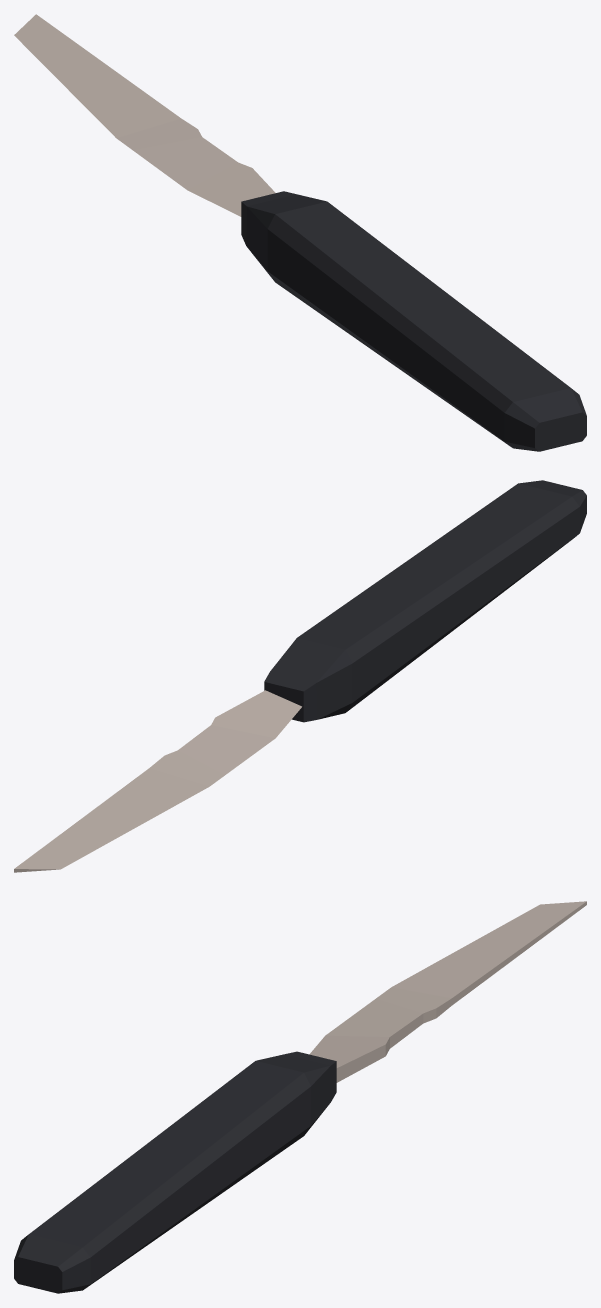
File: SM_Knife.glb
The picture shows the model from 3 angles, top to bottom: view 1: azimuth 30°, elevation 25°; view 2: azimuth 150°, elevation 25°; view 3: azimuth 330°, elevation 25°; orthographic projection. The views are drawn at different scales.
Visible parts, largest first — view 1: SM_Knife; view 2: SM_Knife; view 3: SM_Knife.
Part boxes in pixels (<box>): SM_Knife: <box>14,14,586,451</box>; SM_Knife: <box>14,480,586,872</box>; SM_Knife: <box>14,901,586,1293</box>.
Size of the model in its own units: 0.016 by 0.0139 by 0.2062.
Materials: 1 (1 with a texture image).
